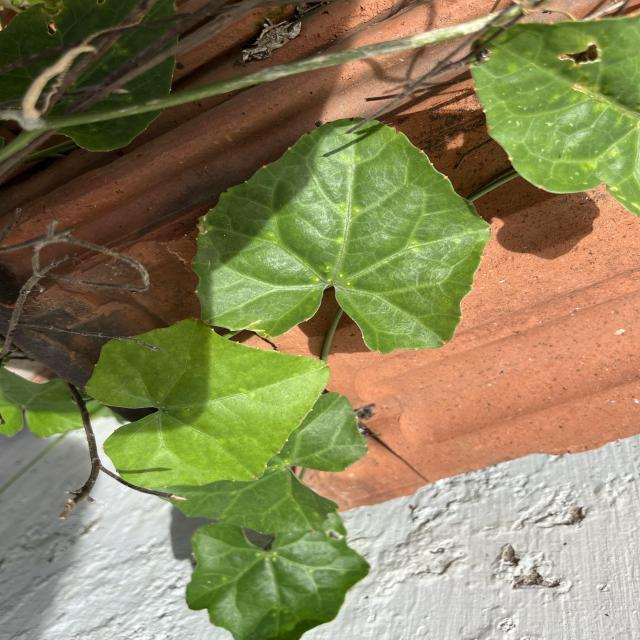Coccinia grandis: (188, 115, 498, 356), (82, 314, 334, 492)
